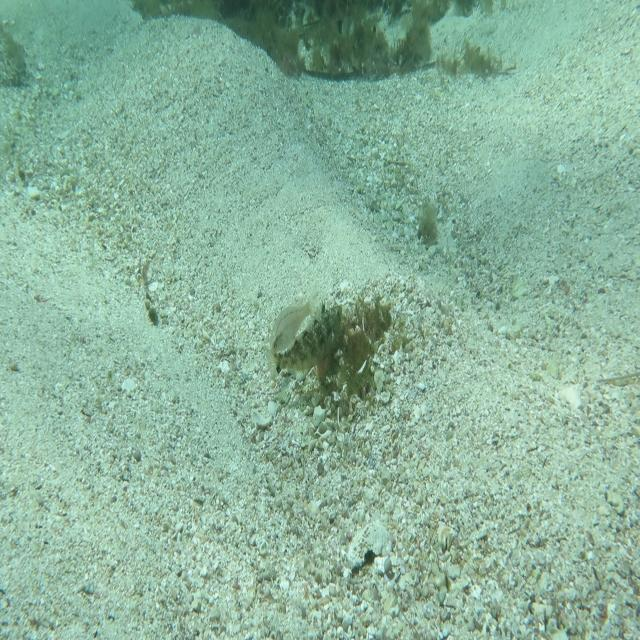DAN_CIRC: (262, 294, 349, 386)
female: (269, 292, 320, 357)
nest: (303, 288, 399, 424)
vegetation: (131, 0, 527, 32), (261, 26, 440, 83), (416, 197, 445, 250)
